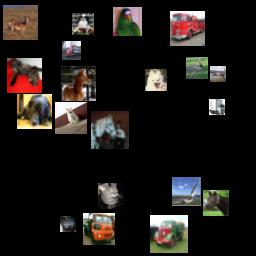automobile: (60, 216, 76, 232)
bird: (113, 7, 142, 36), (186, 57, 208, 79)
cat: (7, 58, 42, 93), (55, 102, 87, 134), (98, 183, 124, 209)
deer: (3, 5, 38, 40)
dog: (17, 94, 52, 129), (145, 69, 167, 91), (72, 13, 94, 35)
ship: (172, 177, 201, 206), (210, 66, 226, 82)
truck: (150, 215, 188, 253), (170, 11, 205, 46), (83, 213, 115, 245), (62, 41, 81, 60), (209, 99, 225, 115)
